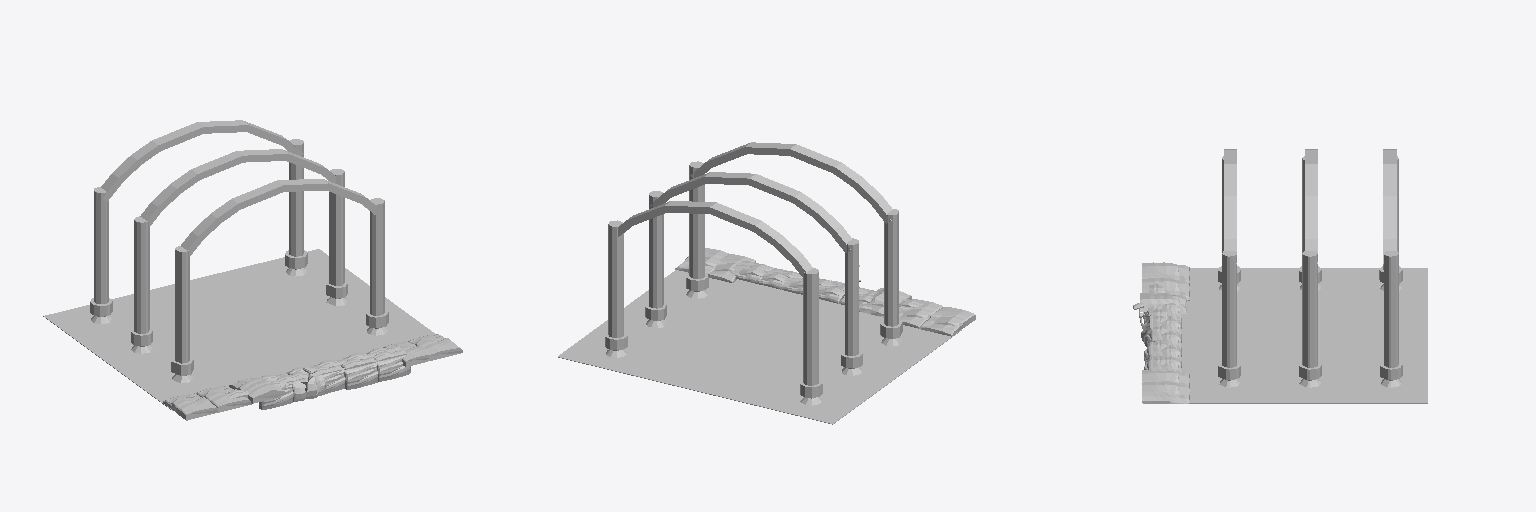
File: temple_LowPoly.obj
3 renders of one model, left to right at view 1: azimuth 30°, elevation 25°; view 2: azimuth 150°, elevation 25°; view 3: azimuth 270°, elevation 25°, orthographic.
Visible parts, largest first — view 1: Pagoda01 polySurface469, Pagoda01 polySurface623, polySurface489 Pagoda01, Pagoda01 polySurface488, Pagoda01 polySurface501, Pagoda01 polySurface492, Pagoda01 polySurface518, Pagoda01 polySurface497, Pagoda01 polySurface499, Pagoda01 polySurface498, Cliffs1 polySurface351, Cliffs1 polySurface3 (+6 smaller); view 2: Pagoda01 polySurface469, polySurface489 Pagoda01, Pagoda01 polySurface488, Pagoda01 polySurface623, Pagoda01 polySurface497, Pagoda01 polySurface498, Pagoda01 polySurface492, Pagoda01 polySurface501, Pagoda01 polySurface499, Pagoda01 polySurface518, Cliffs1 polySurface351, Cliffs1 polySurface2 (+1 smaller); view 3: Pagoda01 polySurface469, Pagoda01 polySurface499, Pagoda01 polySurface498, Pagoda01 polySurface518, Pagoda01 polySurface623, Pagoda01 polySurface488, polySurface489 Pagoda01, Cliffs1 polySurface3, Cliffs1 polySurface351, Cliffs1 polySurface2.
Part boxes in pixels (x1,y1,x2,y2): Pagoda01 polySurface469: (43,249,434,410); Pagoda01 polySurface623: (101,120,303,201); polySurface489 Pagoda01: (181,179,375,256); Pagoda01 polySurface488: (140,149,335,226); Pagoda01 polySurface501: (131,216,152,353); Pagoda01 polySurface492: (171,246,193,382); Pagoda01 polySurface518: (366,198,388,335); Pagoda01 polySurface497: (90,187,112,323); Pagoda01 polySurface499: (326,169,347,305); Pagoda01 polySurface498: (285,139,307,276); Cliffs1 polySurface351: (163,393,217,420); Cliffs1 polySurface3: (408,334,462,360); Pagoda01 polySurface469: (558,270,961,424); polySurface489 Pagoda01: (690,142,892,223); Pagoda01 polySurface488: (650,172,851,252); Pagoda01 polySurface623: (618,201,812,278); Pagoda01 polySurface497: (800,268,822,405); Pagoda01 polySurface498: (605,220,627,357); Pagoda01 polySurface492: (880,209,902,345); Pagoda01 polySurface501: (841,238,862,375); Pagoda01 polySurface499: (645,191,666,327); Pagoda01 polySurface518: (686,161,708,298); Cliffs1 polySurface351: (918,307,975,336); Cliffs1 polySurface2: (899,299,942,327); Pagoda01 polySurface469: (1181,268,1427,403); Pagoda01 polySurface499: (1299,251,1321,387); Pagoda01 polySurface498: (1380,251,1402,387); Pagoda01 polySurface518: (1218,251,1240,387); Pagoda01 polySurface623: (1383,149,1396,265); Pagoda01 polySurface488: (1305,149,1317,263); polySurface489 Pagoda01: (1224,149,1236,263); Cliffs1 polySurface3: (1142,381,1189,403); Cliffs1 polySurface351: (1142,262,1189,282); Cliffs1 polySurface2: (1142,278,1189,300).
Size of the model in its own units: 151 by 94.94 by 139.